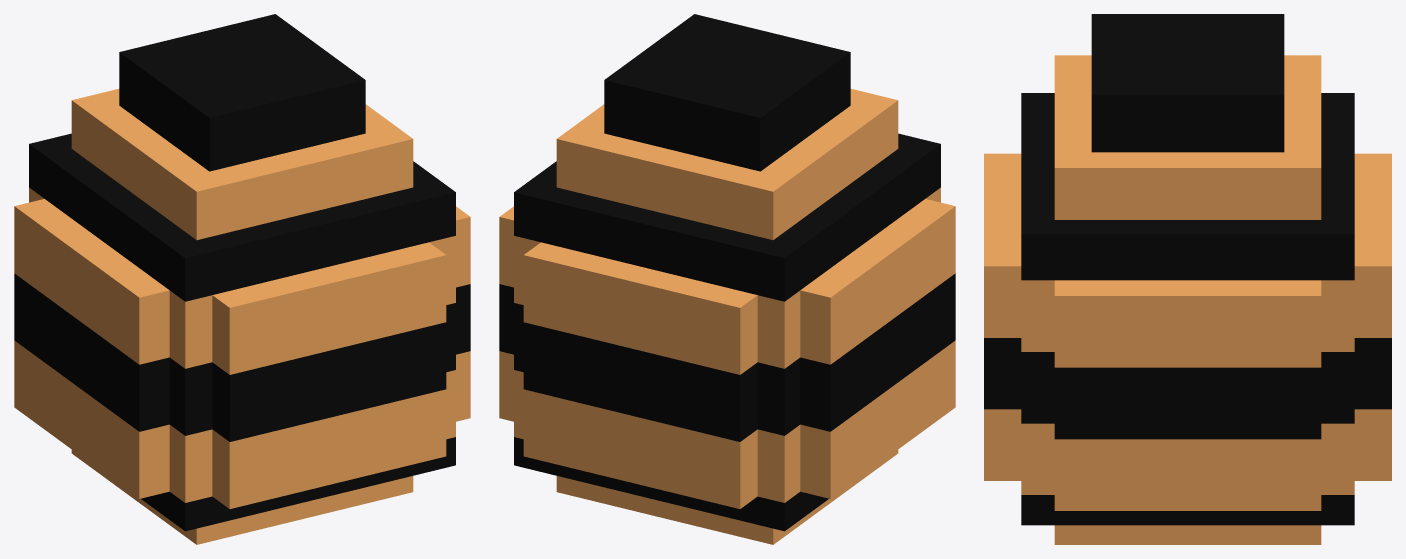
Rendered from 31.Tiger.fbx.
3 views of the same model, side by side, from view 1: azimuth 30°, elevation 25°; view 2: azimuth 150°, elevation 25°; view 3: azimuth 270°, elevation 25° (orthographic). The views are drawn at different scales.
Parts seen in each view (by area): view 1: Tiger; view 2: Tiger; view 3: Tiger.
Part boxes in pixels (box(x1,y1,x2,y2)): Tiger: box(14, 14, 470, 544); Tiger: box(499, 14, 955, 544); Tiger: box(984, 14, 1391, 544).
Size of the model in its own units: 2.89 by 3.39 by 2.89.
